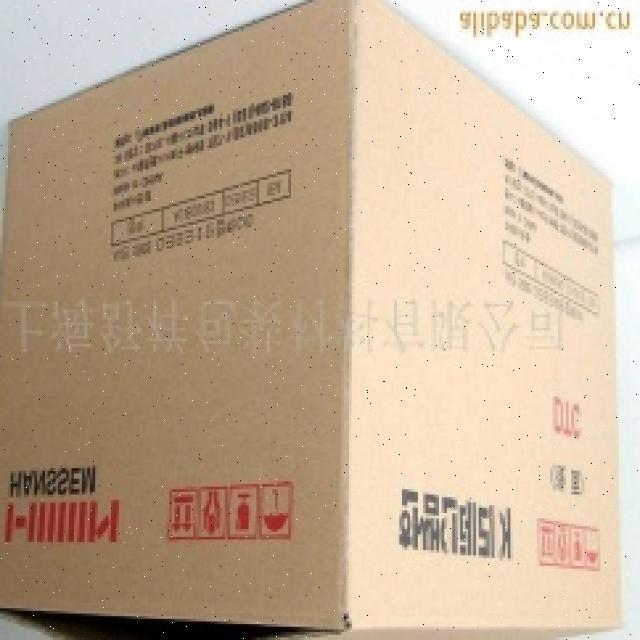box: (0, 8, 621, 640)
